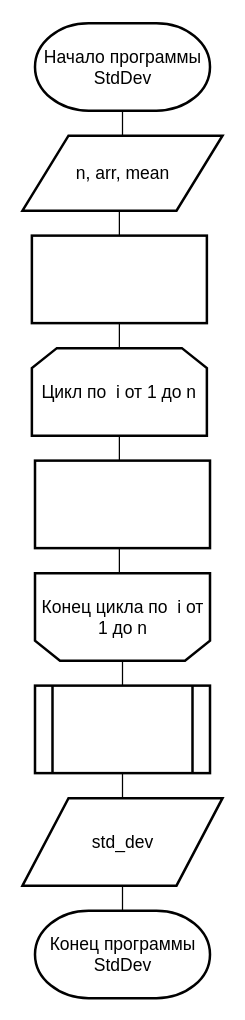
Some shapes in this 245 by 1020 pixel diagram are drawn without their labels. The shapes that lost their labels are listed below. From the top down, each one's centre as x and y in pixels, then its label:
At (119,279): "sum = 0".
At (122,504): "sum = sum + (arr[i]-mean)*(arr[i]-mean)".
At (122,729): "std_dev= sqrt(sum/n)".
